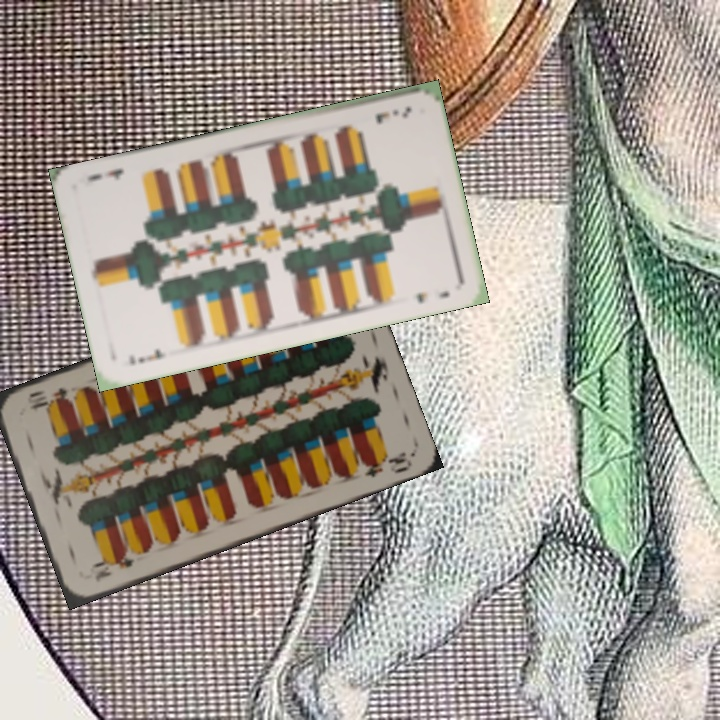E10: (90, 551, 137, 585)
E7: (371, 102, 414, 127), (125, 344, 169, 367)
